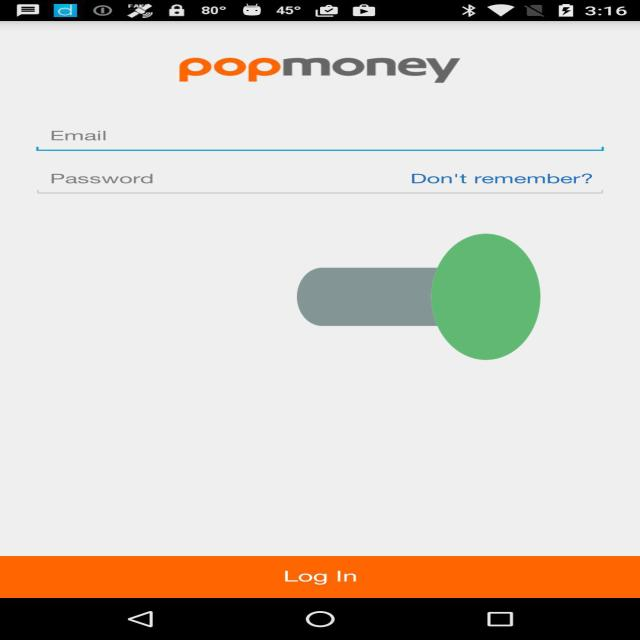social proof: (297, 156, 540, 438)
